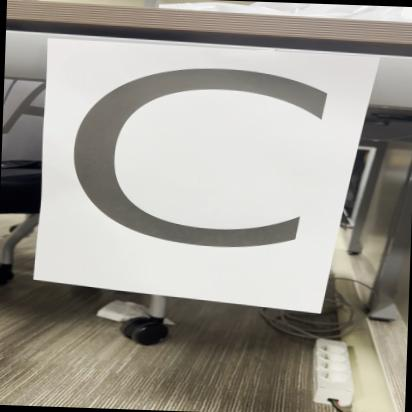seat: (48, 36, 354, 307)
